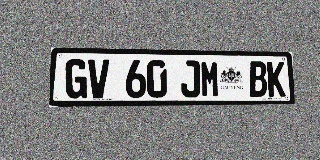0: (147, 60, 167, 98)
6: (126, 60, 146, 98)
B: (249, 61, 268, 97)
G: (65, 59, 87, 99)
J: (181, 60, 200, 98)
K: (267, 61, 286, 97)
M: (200, 61, 220, 97)
V: (88, 59, 109, 98)
